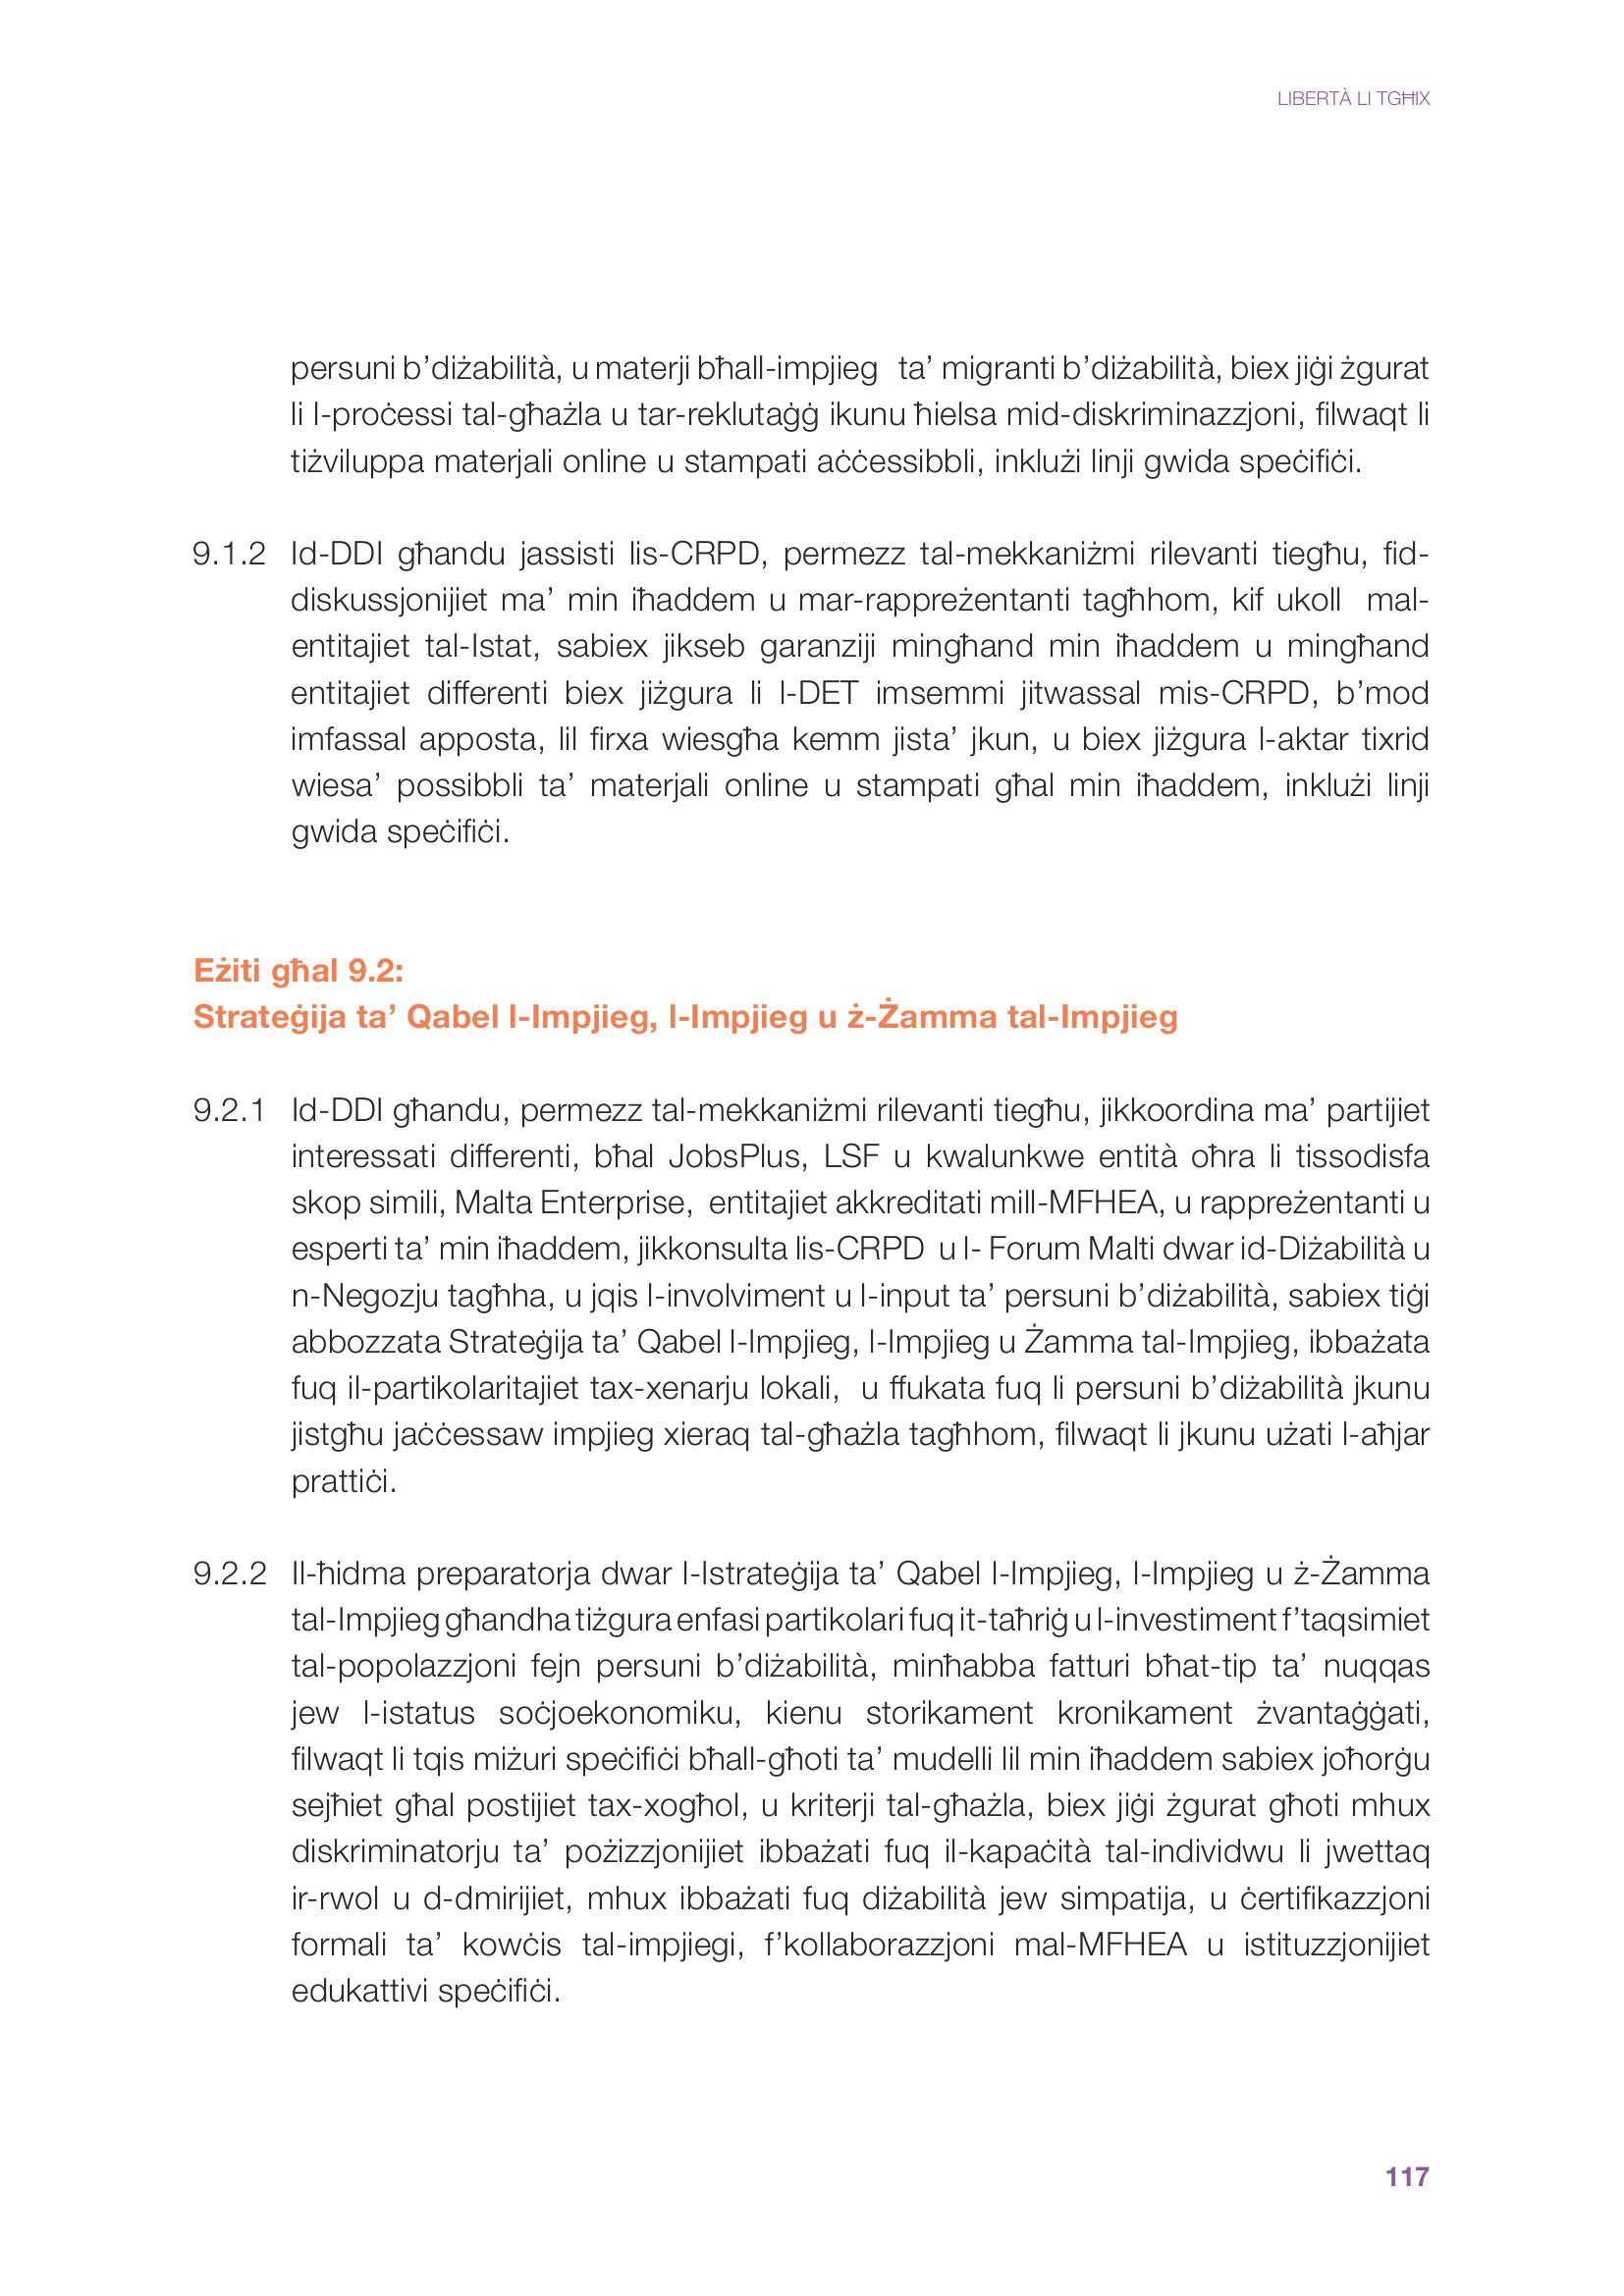text: (155, 330, 1471, 2047)
